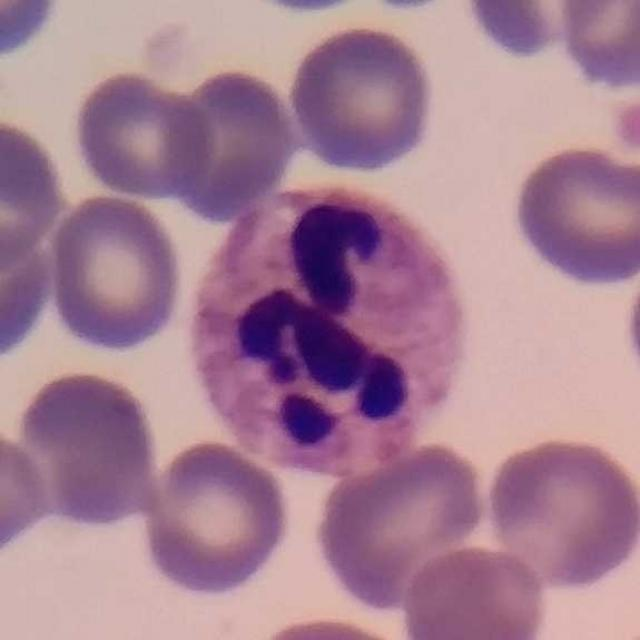Neutrophil: (173, 166, 487, 492)
RBC: (311, 440, 492, 614), (136, 436, 295, 600), (481, 431, 639, 594), (11, 365, 164, 530), (285, 22, 441, 178), (45, 190, 187, 357), (159, 62, 301, 223), (68, 65, 218, 204), (505, 140, 639, 290), (397, 541, 551, 640), (0, 111, 68, 274), (455, 0, 621, 66), (0, 208, 58, 367), (552, 0, 640, 95), (0, 419, 56, 566), (0, 0, 75, 71), (244, 612, 426, 640), (370, 0, 448, 17)
